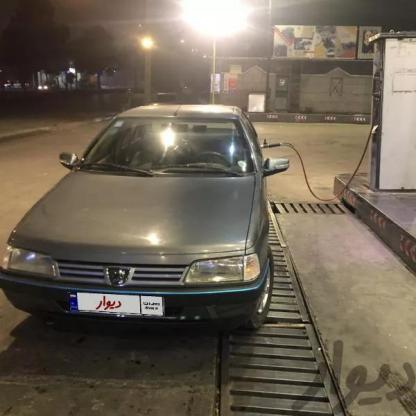Car: (0, 100, 282, 349)
